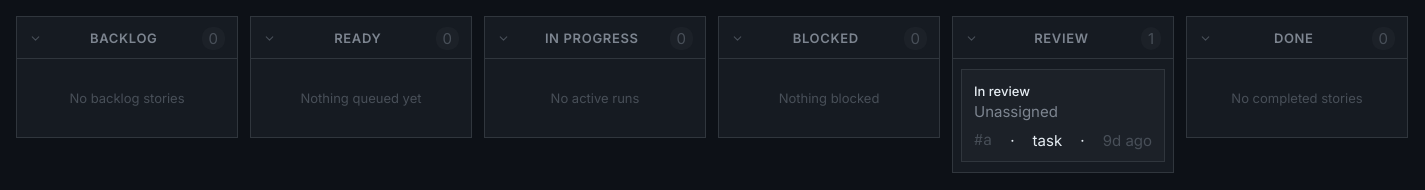
KanbanView column collapse › collapses a column to its header and count
The width and height of the screenshot is (1425, 190).
Expected: the text "In review" is shown, [974,83,1030,99]
Click the button named "collapse review column": (972, 38) [965,32,978,45]
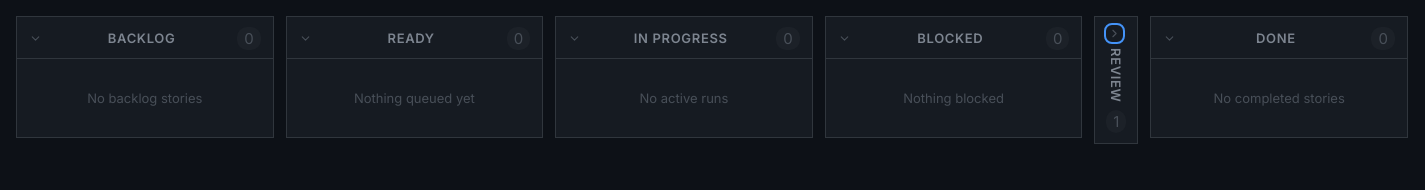
Expected: the text "1" is shown, [1106,110,1126,134]
Now the button "In review" is gone
